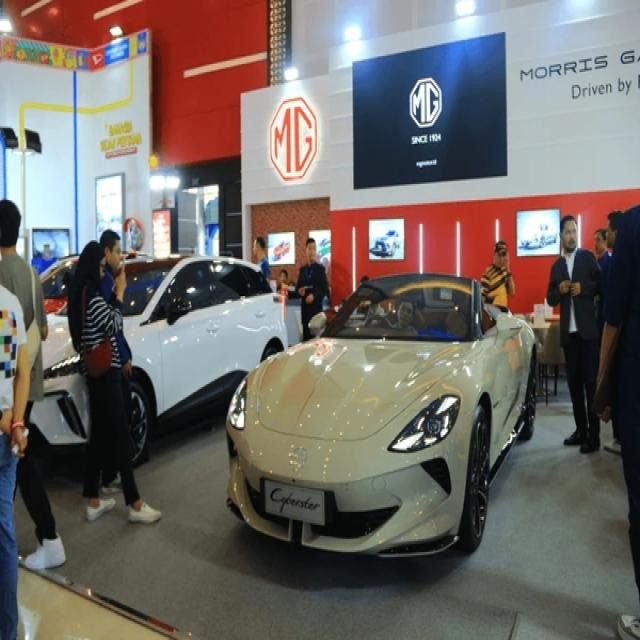mg: (266, 100, 321, 184), (409, 79, 440, 127)
